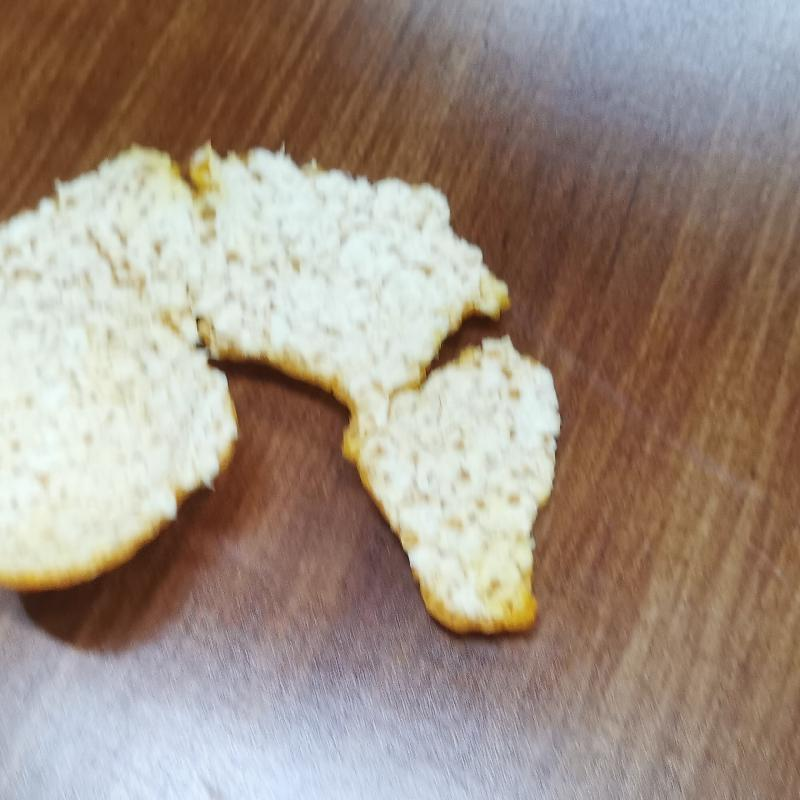orange: (7, 139, 562, 641)
